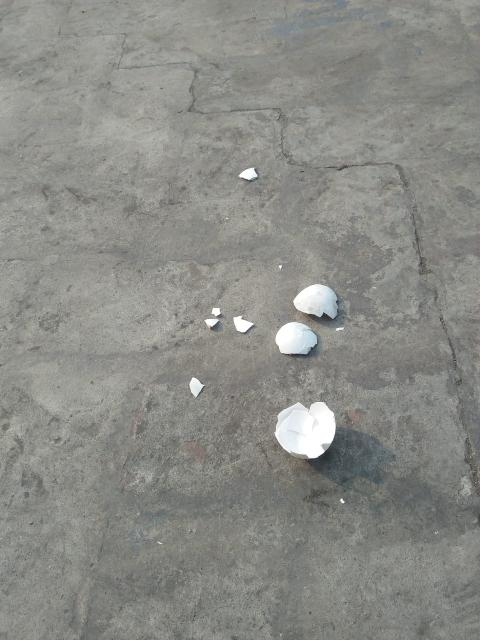Roto: (274, 400, 336, 460), (292, 283, 339, 320), (274, 321, 318, 355), (232, 314, 254, 333), (188, 376, 205, 398), (238, 166, 258, 181), (204, 317, 219, 328)
